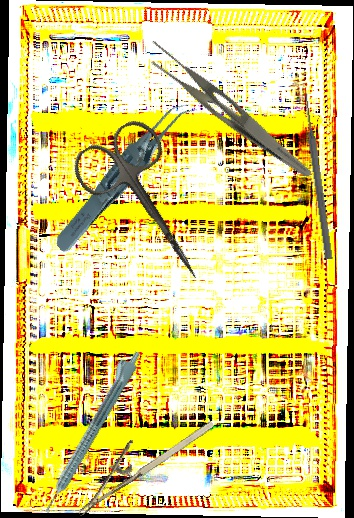Dressing Forceps: (135, 36, 327, 181)
Handpiece: (33, 345, 145, 516)
Iris Scissors: (66, 112, 233, 304)
Needle Holder: (60, 398, 218, 517)
Pusher: (300, 91, 335, 260)
Tissue Forceps: (30, 97, 222, 255)
